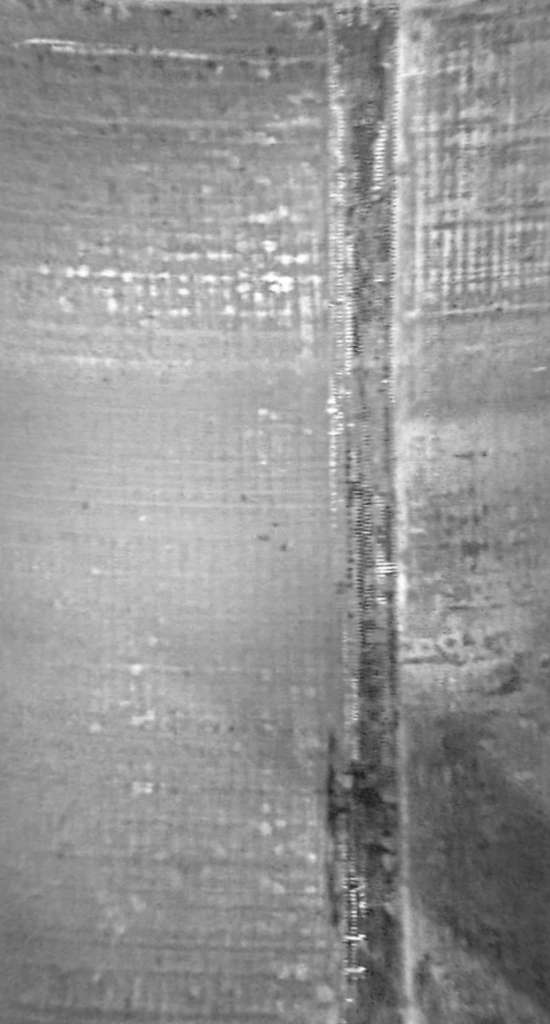splice: (313, 1, 414, 1024)
